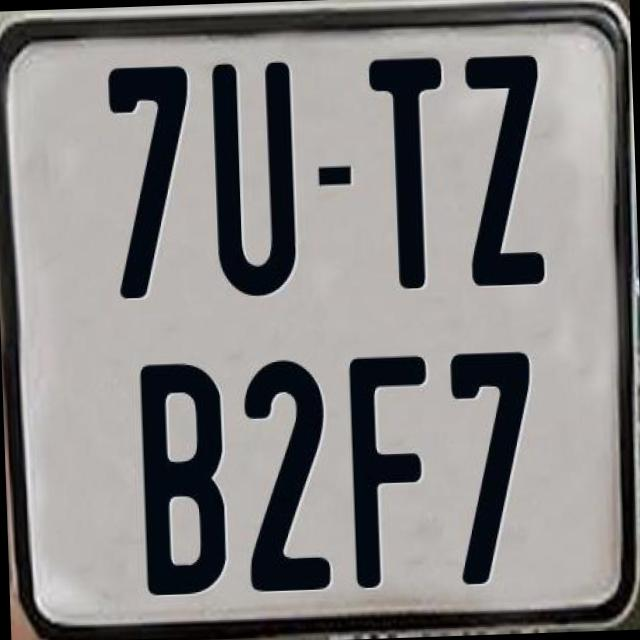2: (242, 355, 336, 593)
7: (105, 66, 194, 300), (446, 348, 532, 586)
B: (134, 358, 228, 602)
F: (346, 354, 436, 598)
T: (368, 51, 456, 294)
U: (208, 57, 296, 297)
Z: (460, 50, 546, 282)
